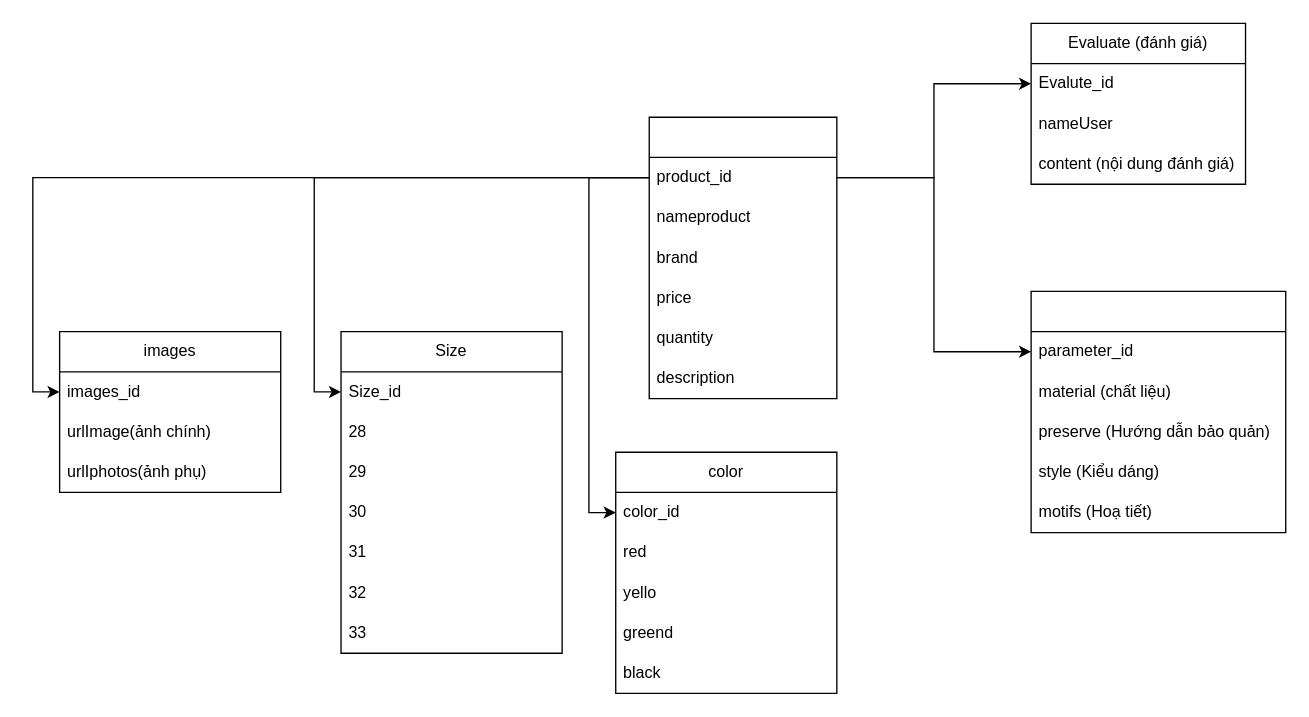
The diagram is 1309 pixels wide and 717 high, and some of its shapes have lost their labels. Each missing label, with the box of its shape:
parameter (thông số): (1030, 290, 1286, 533)
product_fashion: (648, 116, 837, 399)
